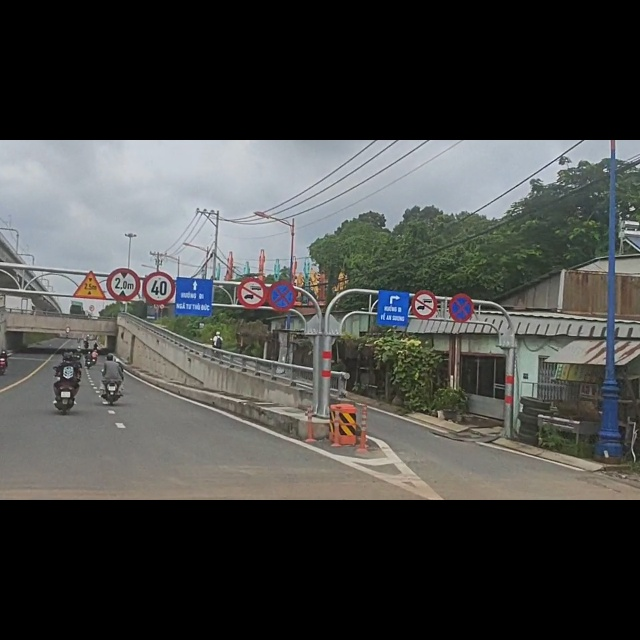bien_chi_dan: (107, 229, 141, 288), (144, 232, 175, 295), (73, 231, 107, 287), (237, 244, 268, 301), (268, 249, 297, 306), (449, 271, 476, 326), (411, 267, 438, 321)
